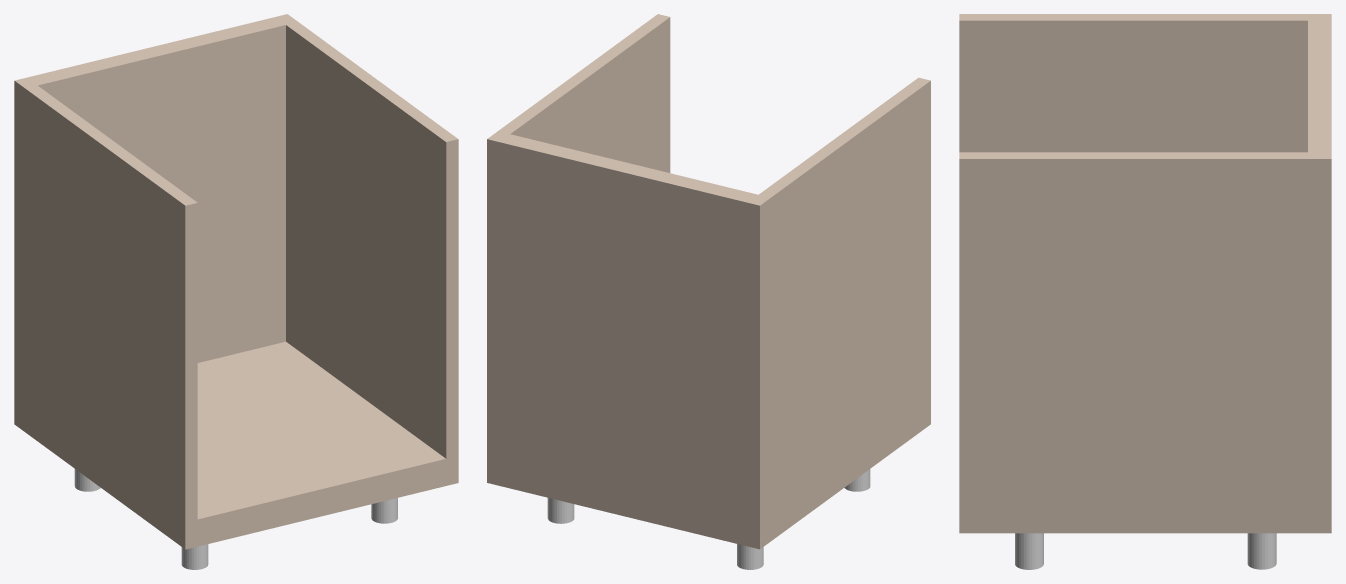
File: counter_big_cupboard_left.dae
3 renders of one model, left to right at view 1: azimuth 30°, elevation 25°; view 2: azimuth 150°, elevation 25°; view 3: azimuth 270°, elevation 25°, orthographic. The views are drawn at different scales.
Parts seen in each view (by area): view 1: Cube, Cylinder_001, Cylinder_003; view 2: Cube, Cylinder_000, Cylinder_002; view 3: Cube, Cylinder_000, Cylinder_003.
Part boxes in pixels (<box>): Cube: <box>14,14,458,549</box>; Cylinder_001: <box>181,544,208,569</box>; Cylinder_003: <box>371,498,397,523</box>; Cube: <box>487,14,930,549</box>; Cylinder_000: <box>547,498,574,523</box>; Cylinder_002: <box>737,544,763,569</box>; Cube: <box>959,14,1331,533</box>; Cylinder_000: <box>1247,533,1276,569</box>; Cylinder_003: <box>1015,533,1043,569</box>.
Bounding box in the file's own units: 0.59 × 0.64 × 0.81.
